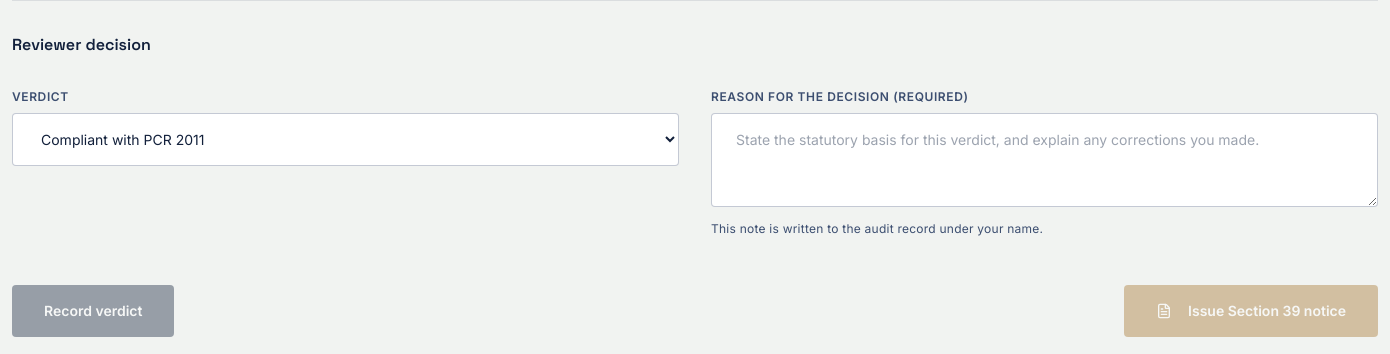
it: ReviewForm › refuses to submit without a reason
Expected: the button "Record verdict" is disabled, [12, 285, 174, 337]
Type "Checked by hand." into the text box labelled "Reason for the decision (required)" at point(1044, 160), box [711, 113, 1378, 207]
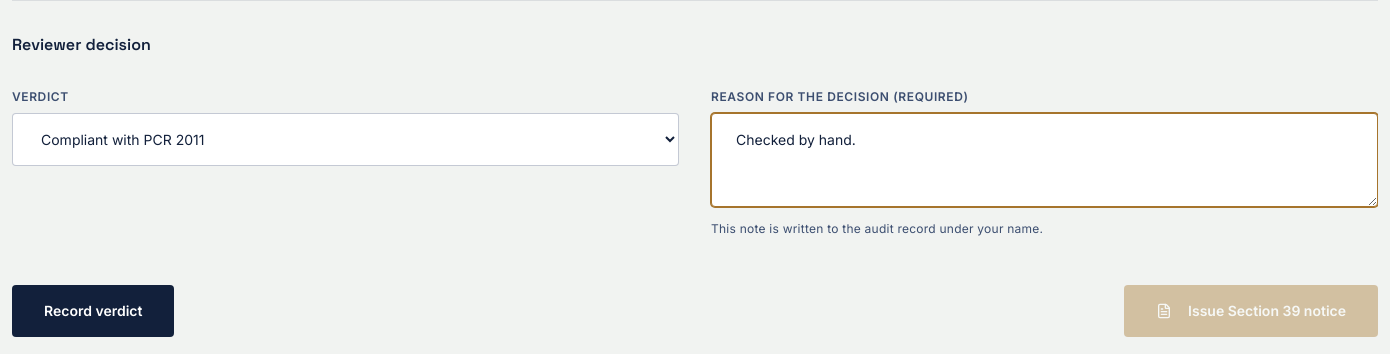
Result: the button "Record verdict" is enabled at [12, 285, 174, 337]
